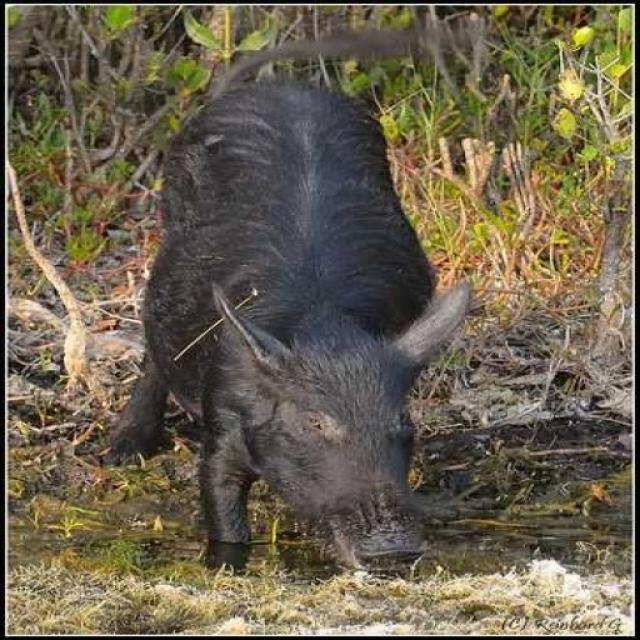pig: (135, 56, 468, 614)
